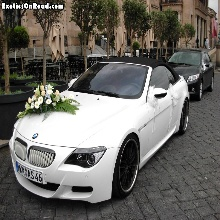no damage: (9, 57, 188, 204), (167, 49, 215, 100)
